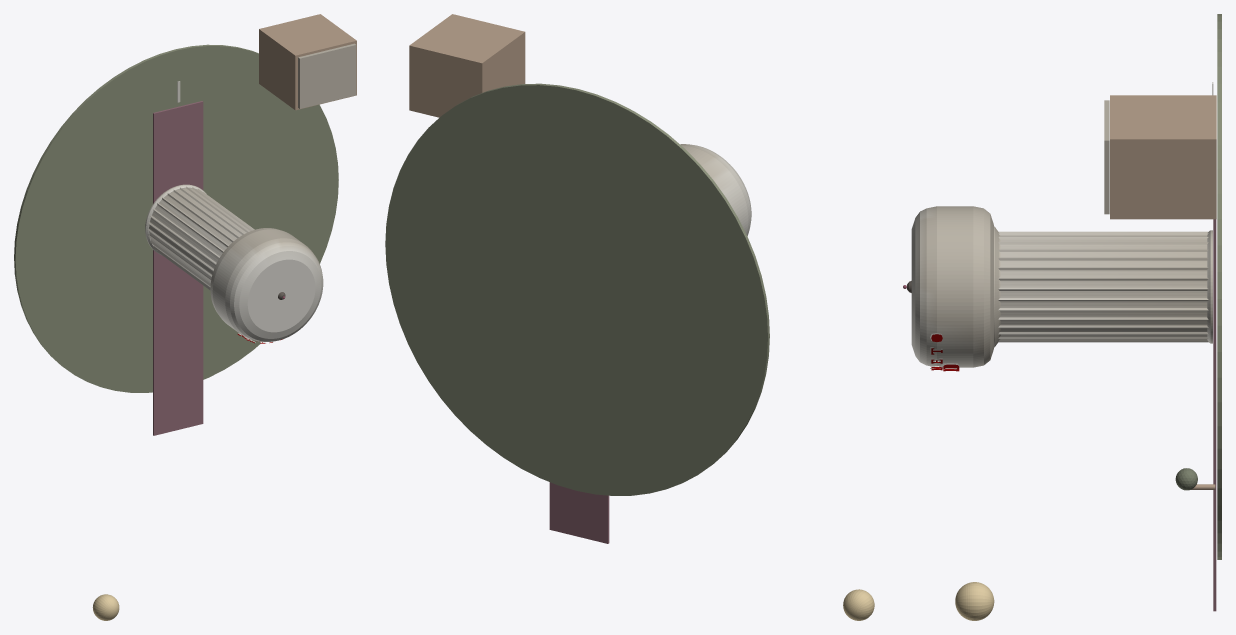
File: aggieland-water-tower.glb
3 views of the same model, side by side, from view 1: azimuth 30°, elevation 25°; view 2: azimuth 150°, elevation 25°; view 3: azimuth 270°, elevation 25° (orthographic). The views are drawn at different scales.
Visible parts, largest first — view 1: campus_ground, maroon_road, water_tank, fluted_tower_shaft, campus_building, building_roof, dusk_sun; view 2: campus_ground, campus_building, maroon_road, water_tank, dusk_sun; view 3: fluted_tower_shaft, campus_building, water_tank, campus_ground, maroon_road, dusk_sun, tank_skirt_collar, building_roof, base_plinth.
Boxes of the visible parts, x1,y1,x2,y2 form: campus_ground: (14, 44, 338, 392); maroon_road: (153, 101, 203, 435); water_tank: (210, 228, 323, 341); fluted_tower_shaft: (147, 186, 254, 289); campus_building: (259, 14, 356, 110); building_roof: (298, 43, 356, 108); dusk_sun: (92, 594, 119, 620); campus_ground: (385, 83, 769, 495); campus_building: (409, 14, 525, 117); maroon_road: (549, 482, 609, 543); water_tank: (680, 144, 751, 235); dusk_sun: (843, 589, 874, 620); fluted_tower_shaft: (998, 231, 1208, 342); campus_building: (1110, 95, 1216, 219); water_tank: (911, 206, 993, 367); campus_ground: (1217, 14, 1221, 559); maroon_road: (1213, 219, 1216, 611); dusk_sun: (955, 582, 994, 620); tank_skirt_collar: (994, 226, 1000, 347); building_roof: (1104, 100, 1109, 214); base_plinth: (1207, 230, 1212, 343).
Size of the model in its own units: 21.25 by 29.35 by 12.26.
